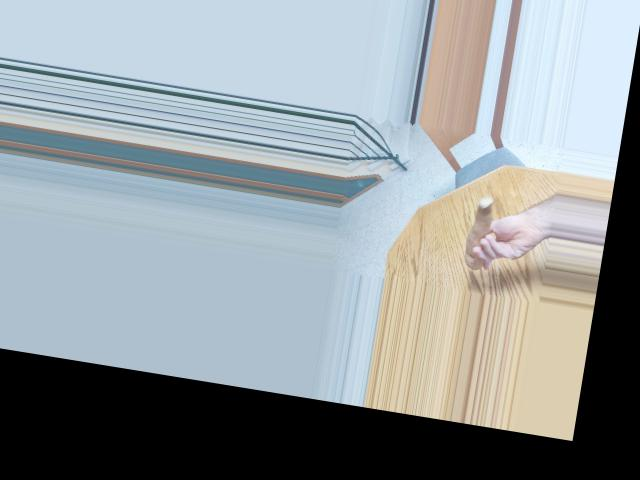sweet_potato: (462, 193, 502, 269)
